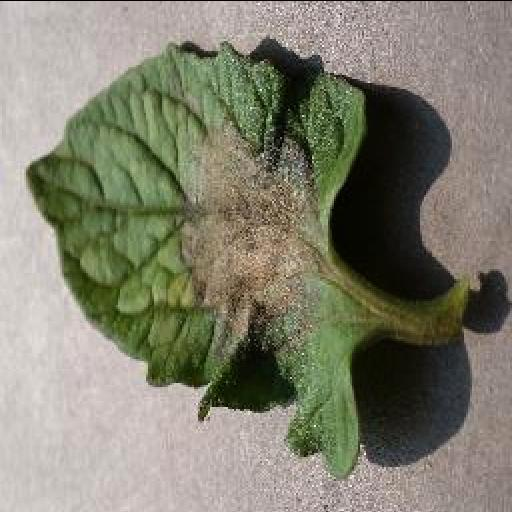disease_tomato: (24, 40, 366, 478)
